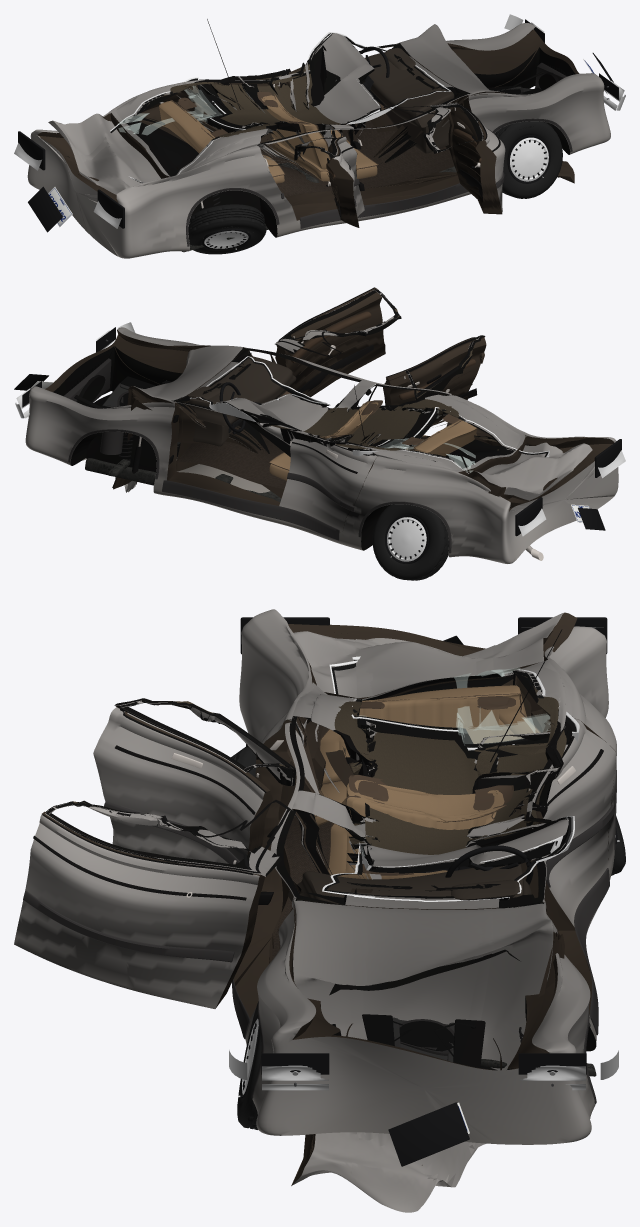
File: sedan87_roll_d3.glb
3 views of the same model, one above another, from view 1: azimuth 30°, elevation 25°; view 2: azimuth 150°, elevation 25°; view 3: azimuth 270°, elevation 25° (orthographic). The views are drawn at different scales.
Visible parts, largest first — view 1: Body, Interior, Trunk, Door_FR, Wheel_FR_mesh, Ends, Wheel_RR_mesh, Hood, Trim, Glass, Door_RR, Trim_FR (+4 smaller); view 2: Body, Interior, Door_FR, Door_RL, Wheel_RL_mesh, Trunk, Trim, Door_RR, Ends, Hood, Engine, Glass (+4 smaller); view 3: Body, Hood, Door_FR, Interior, Door_RR, Trunk, Door_RL, Ends, Glass, Trim_FR, Engine, Trim (+4 smaller).
Part boxes in pixels (x1,y1,x2,y2): Body: [27, 23, 610, 258]; Interior: [159, 47, 454, 183]; Trunk: [48, 113, 160, 194]; Door_FR: [425, 102, 505, 214]; Wheel_FR_mesh: [494, 121, 562, 198]; Ends: [14, 14, 625, 232]; Wheel_RR_mesh: [188, 204, 266, 254]; Hood: [397, 24, 574, 183]; Trim: [186, 19, 572, 246]; Glass: [110, 32, 451, 182]; Door_RR: [294, 136, 364, 227]; Trim_FR: [383, 103, 504, 199]; Body: [25, 327, 618, 563]; Interior: [187, 356, 477, 480]; Door_FR: [275, 287, 401, 397]; Door_RL: [279, 428, 378, 532]; Wheel_RL_mesh: [372, 504, 448, 580]; Trunk: [467, 442, 592, 501]; Trim: [68, 363, 451, 553]; Door_RR: [383, 335, 486, 426]; Ends: [14, 322, 625, 536]; Hood: [112, 345, 245, 492]; Engine: [63, 358, 171, 454]; Glass: [190, 356, 549, 473]; Body: [233, 609, 616, 1144]; Hood: [291, 899, 564, 1212]; Door_FR: [14, 800, 282, 1008]; Interior: [287, 685, 540, 909]; Door_RR: [93, 698, 295, 863]; Trunk: [293, 612, 577, 697]; Door_RL: [514, 719, 616, 930]; Ends: [229, 617, 618, 1166]; Glass: [322, 656, 579, 901]; Trim_FR: [23, 800, 290, 962]; Engine: [331, 1014, 485, 1067]; Trim: [232, 629, 616, 1103].
Size of the model in its own units: 5.15 by 1.7 by 2.74.
Materials: 28 (5 with a texture image).
